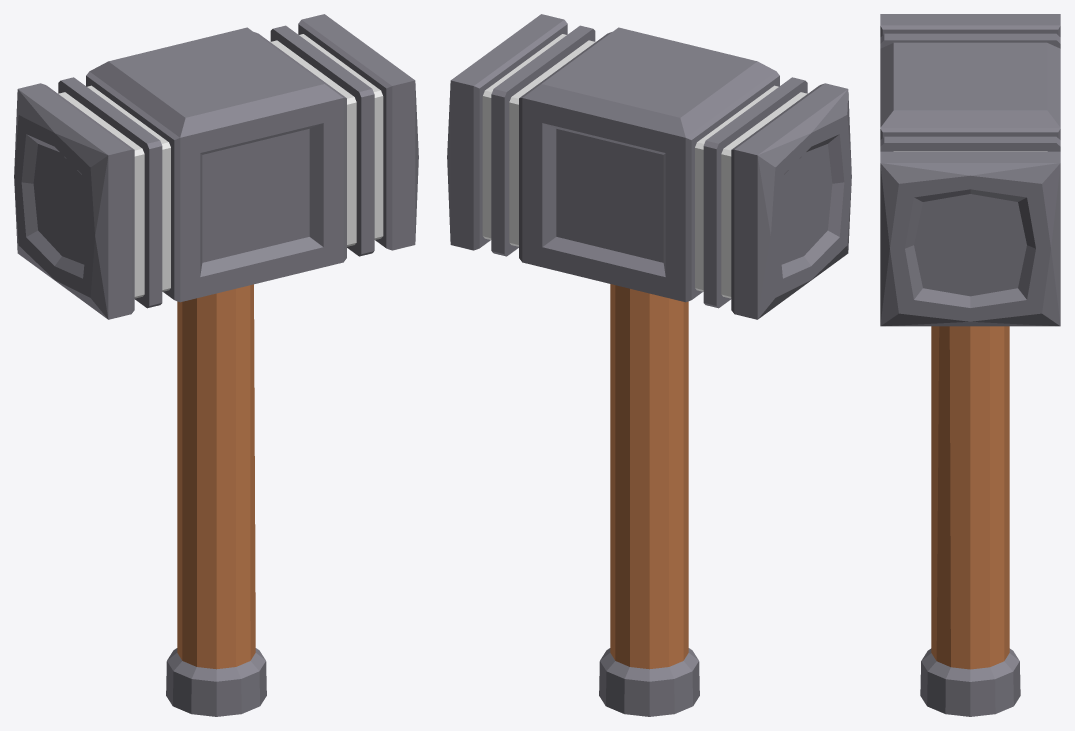
The model's file is LowPolyHammer.fbx.
The picture shows the model from 3 angles, left to right: view 1: azimuth 30°, elevation 25°; view 2: azimuth 150°, elevation 25°; view 3: azimuth 270°, elevation 25°; orthographic projection.
Visible parts, largest first — view 1: Icosphere; view 2: Icosphere; view 3: Icosphere.
Part boxes in pixels (x1,y1,x2,y2): Icosphere: (14,14,418,716); Icosphere: (447,14,851,716); Icosphere: (880,14,1060,716).
Size of the model in its own units: 412 by 766 by 200.
